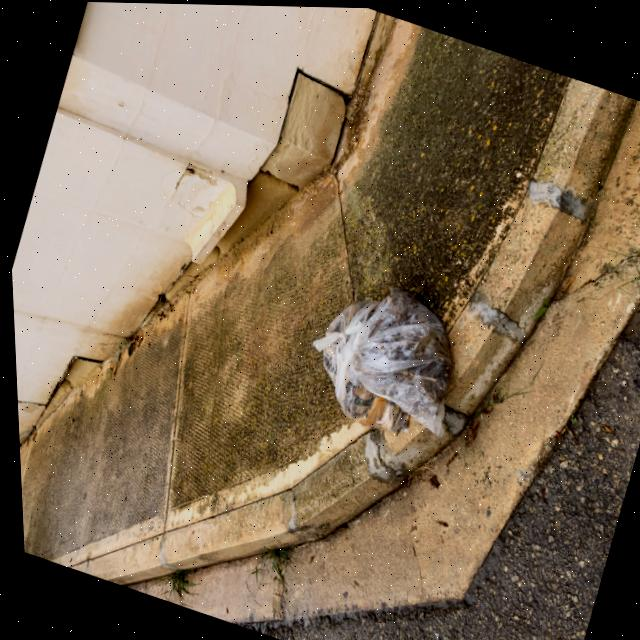Organic Waste -White Bag-: (309, 264, 484, 468), (292, 281, 445, 440)
